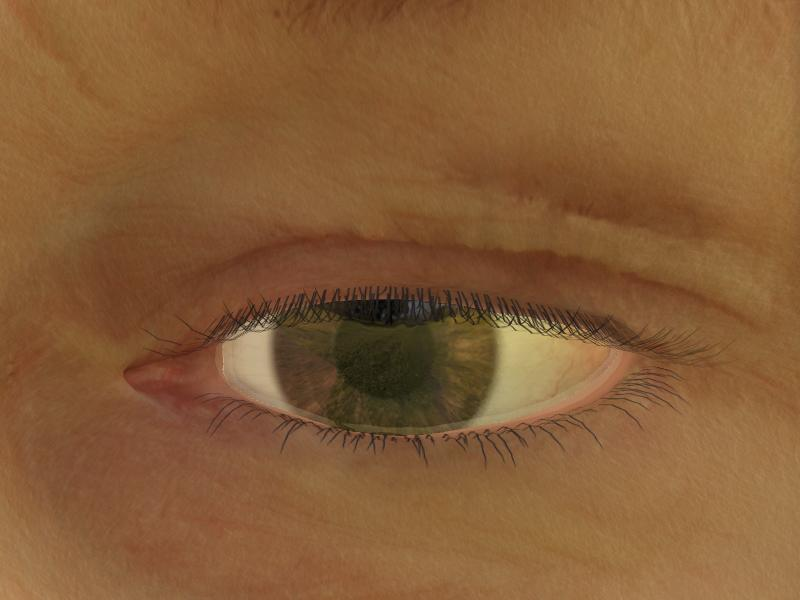eye: (271, 300, 498, 431)
